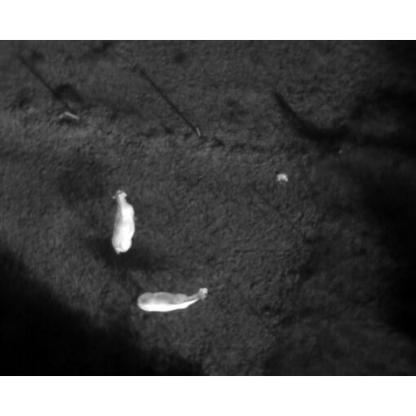rehkitze: (136, 284, 213, 319), (107, 190, 136, 257)
